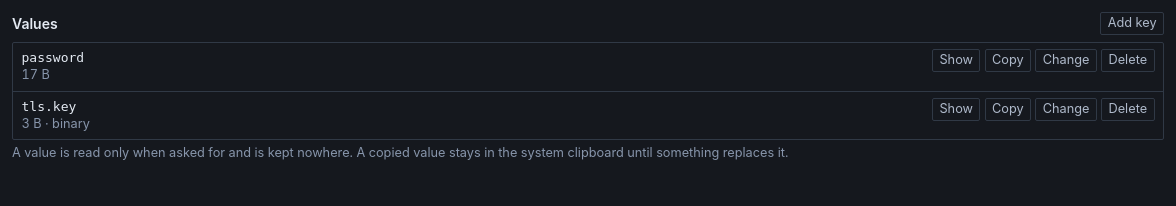
Test: ValuesSection › lists keys with sizes and no value; Show reads one key now, Hide drops it
Expected: the text "password" is shown, top-left (22, 50), bottom-right (84, 65)
Expected: the list item "tls.key 3 B · binary Show Copy Change Delete" is shown, top-left (13, 92), bottom-right (1163, 139)
What coordinates should you click on to do the following:
click the button "Show" in the row of "password"
I would click on:
 (956, 61)
Its box is top-left (932, 49), bottom-right (980, 72).
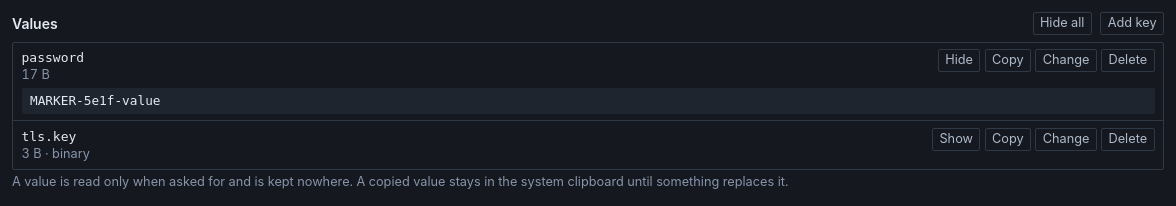
Expected: the text "MARKER-5e1f-value" is shown, top-left (22, 88), bottom-right (1154, 114)
What coordinates should you click on to do the following:
click the button "Hide"
I would click on:
 (959, 61)
Its box is top-left (938, 49), bottom-right (980, 72).
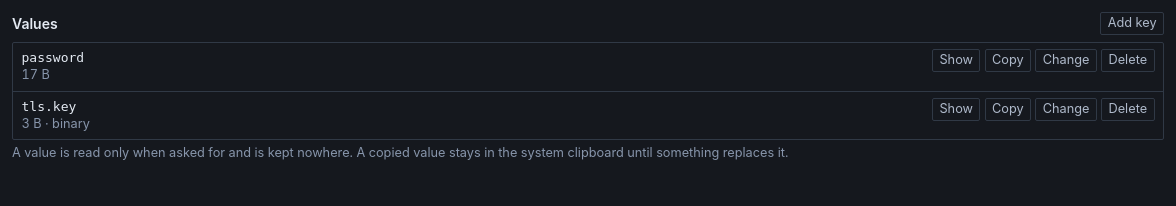
Expected: the element that starts with "Values" no longer shows "MARKER-5e1f-value"
